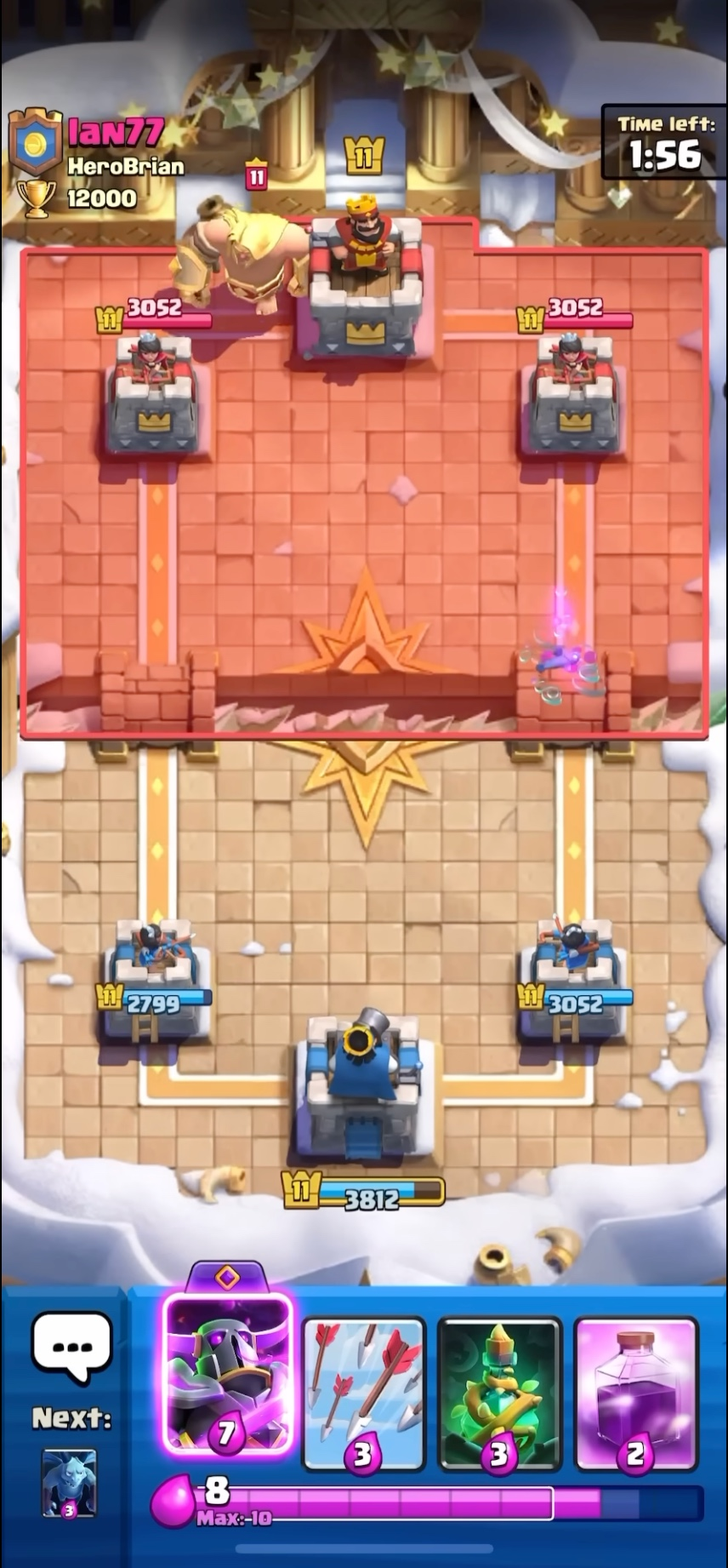hero-giant: (165, 160, 317, 322)
